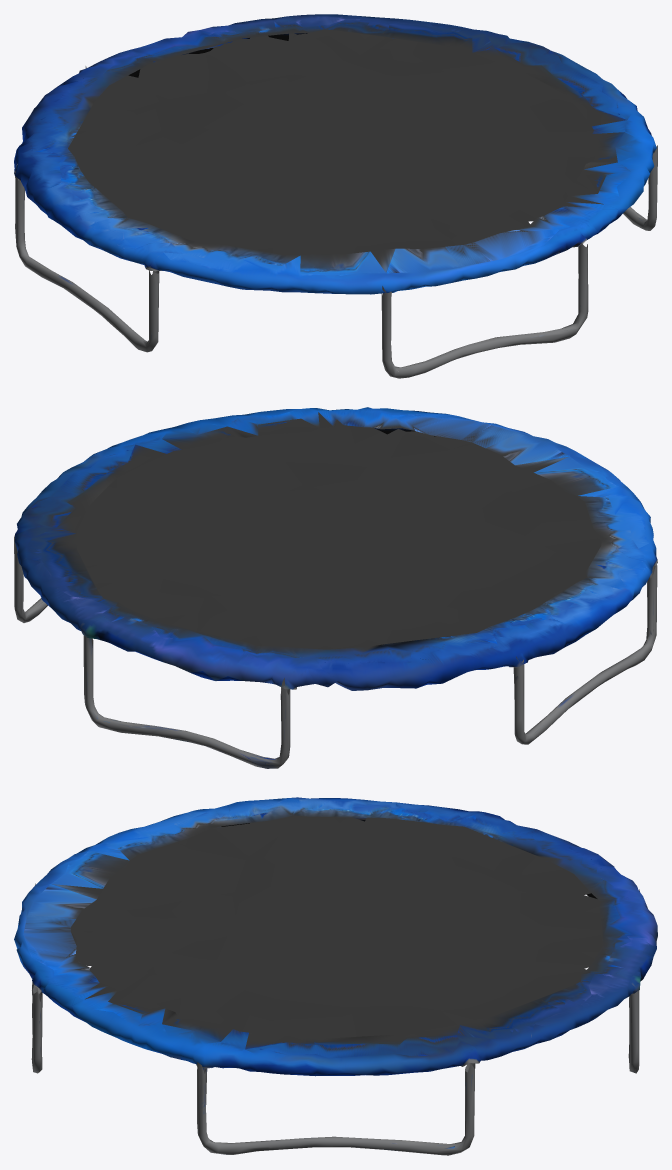
Rendered from trampoline.fbx.
3 renders of one model, top to bottom at view 1: azimuth 30°, elevation 25°; view 2: azimuth 150°, elevation 25°; view 3: azimuth 270°, elevation 25°, orthographic.
Visible parts, largest first — view 1: trampoline.001; view 2: trampoline.001; view 3: trampoline.001.
Boxes of the visible parts, box(x1,y1,x2,y2) form: trampoline.001: box(14, 14, 657, 378); trampoline.001: box(14, 407, 657, 768); trampoline.001: box(14, 797, 657, 1155).
Size of the model in its own units: 3.45 by 0.6242 by 3.46.
Materials: 1 (1 with a texture image).
